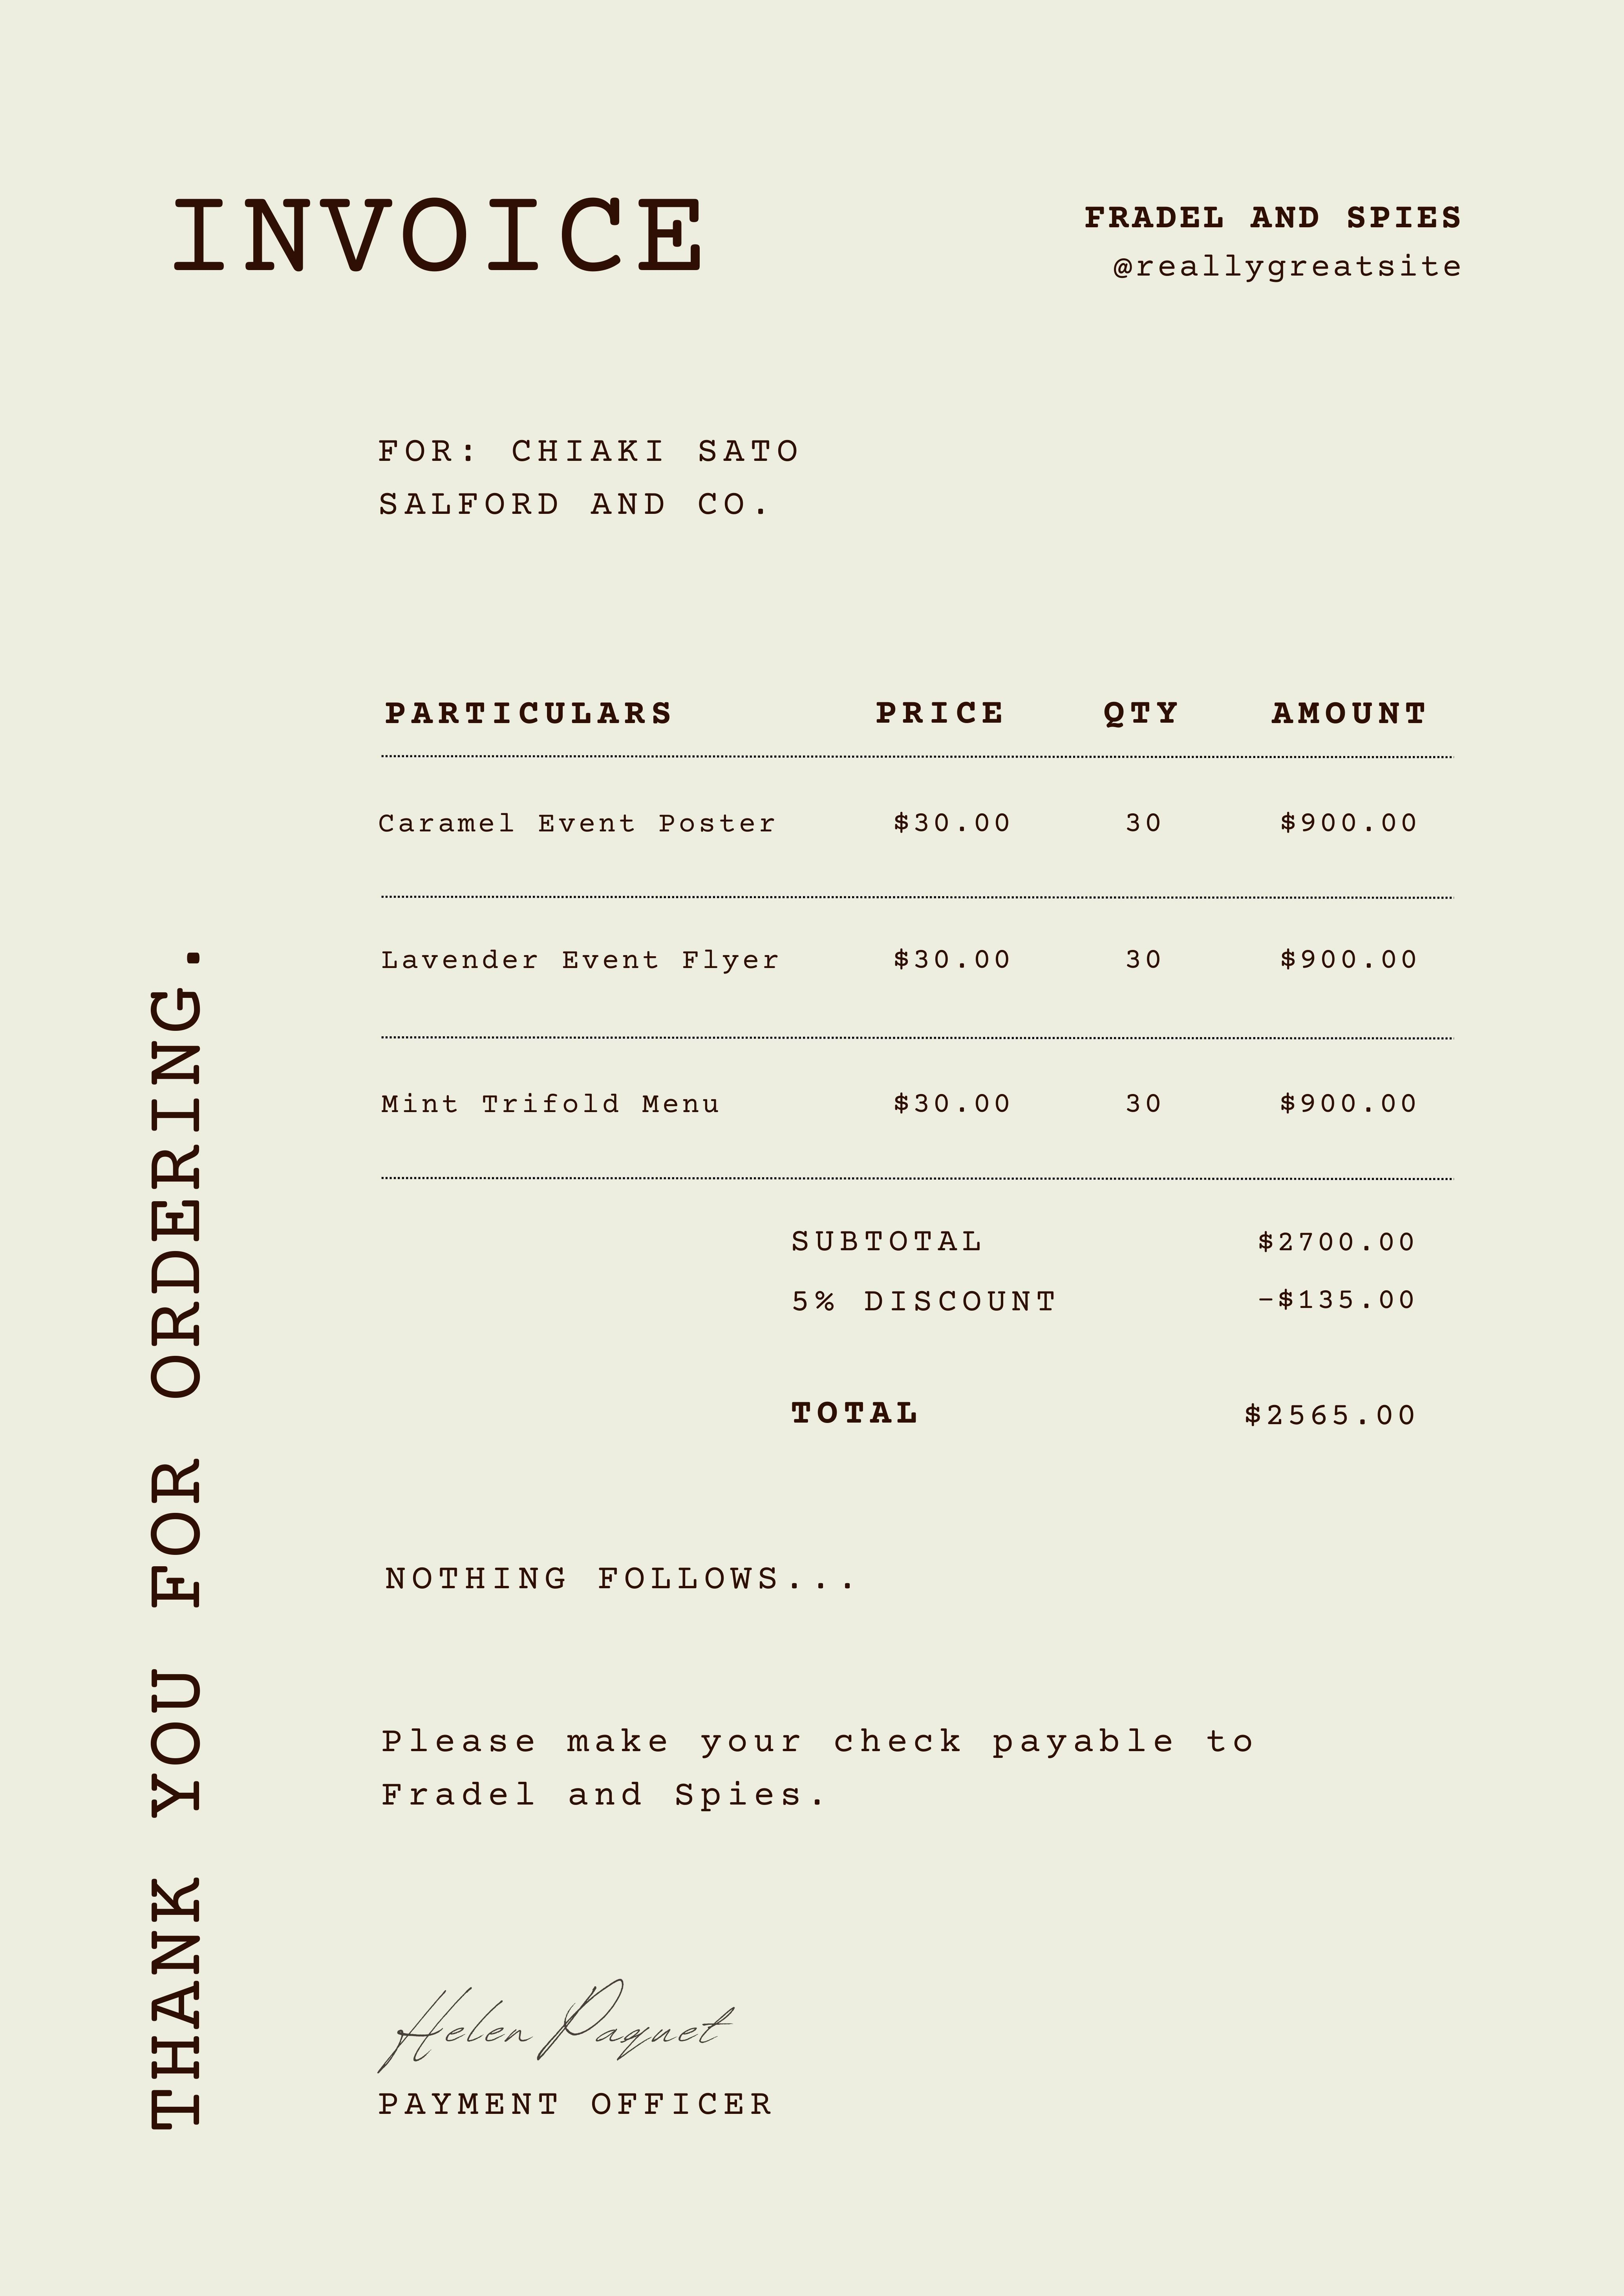ROI: (371, 687, 1438, 1154), (765, 1209, 1441, 1446), (366, 1700, 1274, 1836), (1046, 177, 1519, 304), (355, 413, 823, 532)
